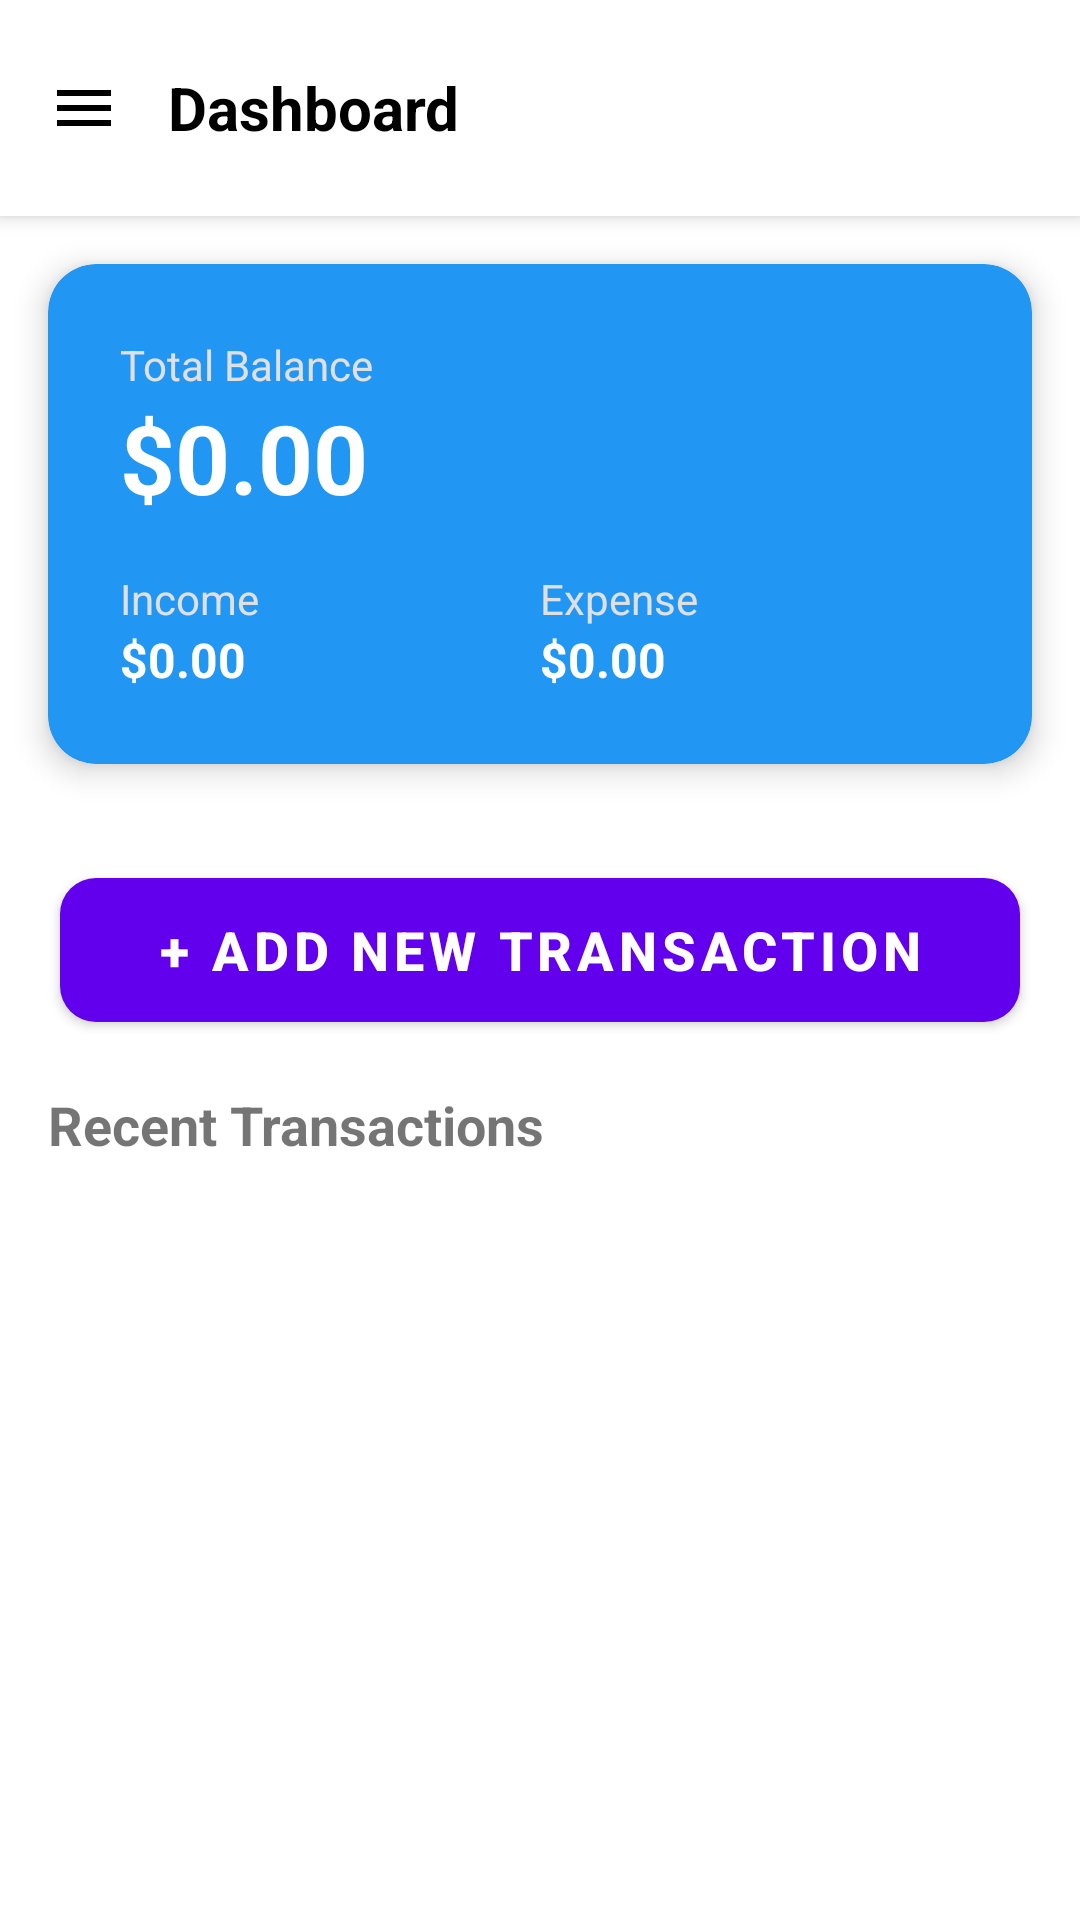

Icons on this 1080×1920 Android screen, each with the point to tap as point (x, y):
menu: point (84, 108)
